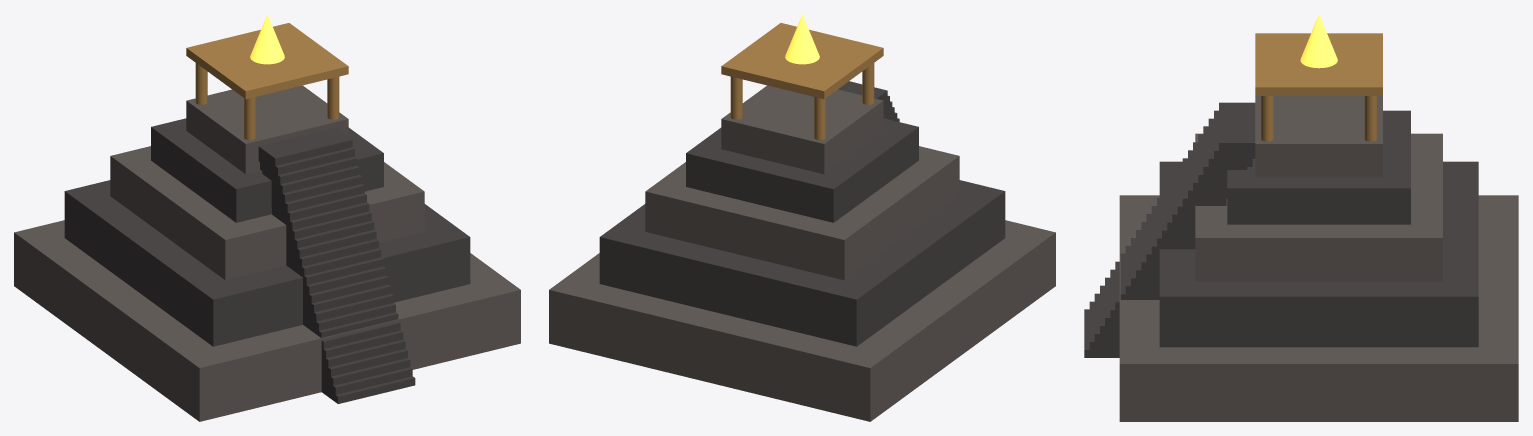
File: ziggurat.glb
The picture shows the model from 3 angles, left to right: view 1: azimuth 30°, elevation 25°; view 2: azimuth 150°, elevation 25°; view 3: azimuth 270°, elevation 25°; orthographic projection. The views are drawn at different scales.
Visible parts, largest first — view 1: Cube, Cube.001, Cube.002, Cube.003, Cube.004, Cube.032, Cube.031, Cone, Cube.029, Cube.024, Cube.030, Cube.025 (+25 smaller); view 2: Cube, Cube.001, Cube.002, Cube.003, Cube.004, Cube.032, Cone, Cylinder.003, Cylinder.001, Cylinder; view 3: Cube, Cube.001, Cube.002, Cube.003, Cube.004, Cube.032, Cube.031, Cone, Cylinder.003, Cube.024, Cube.029, Cylinder.002 (+19 smaller).
Boxes of the visible parts, x1,y1,x2,y2 form: Cube: (14,220,520,421); Cube.001: (64,180,470,346); Cube.002: (110,146,424,280); Cube.003: (151,118,383,222); Cube.004: (186,85,348,174); Cube.032: (186,23,348,99); Cube.031: (258,127,352,165); Cone: (250,14,284,64); Cube.029: (260,156,357,184); Cube.024: (272,202,369,229); Cube.030: (258,147,354,174); Cube.025: (271,193,366,220); Cube: (549,220,1055,421); Cube.001: (599,180,1005,346); Cube.002: (645,146,959,280); Cube.003: (686,118,918,222); Cube.004: (721,85,883,174); Cube.032: (721,23,883,99); Cone: (785,14,819,64); Cylinder.003: (730,76,742,119); Cylinder.001: (814,97,825,139); Cylinder: (862,63,874,104); Cube: (1119,195,1518,421); Cube.001: (1159,161,1478,347); Cube.002: (1195,133,1442,281); Cube.003: (1227,110,1410,224); Cube.004: (1255,96,1382,176); Cube.032: (1255,33,1382,95); Cube.031: (1219,102,1255,150); Cone: (1300,14,1337,68); Cylinder.003: (1364,96,1377,141); Cube.024: (1182,158,1226,206); Cube.029: (1208,118,1252,166); Cylinder.002: (1261,96,1273,141).
Bounding box in the file's own units: 10 × 8.95 × 10.89.
